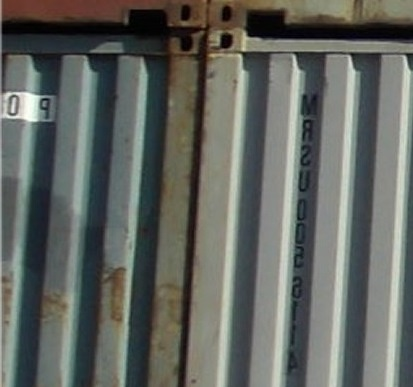container_no_door: (207, 25, 410, 385), (1, 27, 202, 387)
